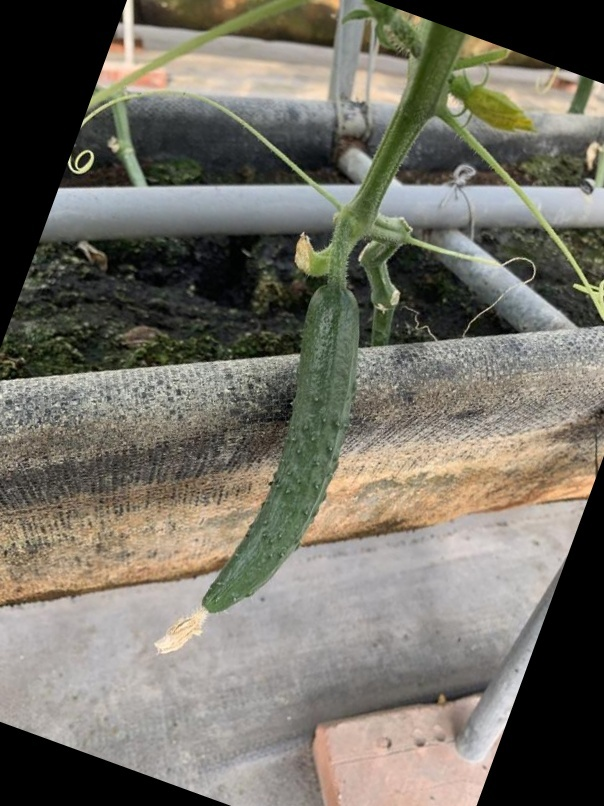mature: (192, 281, 370, 627)
